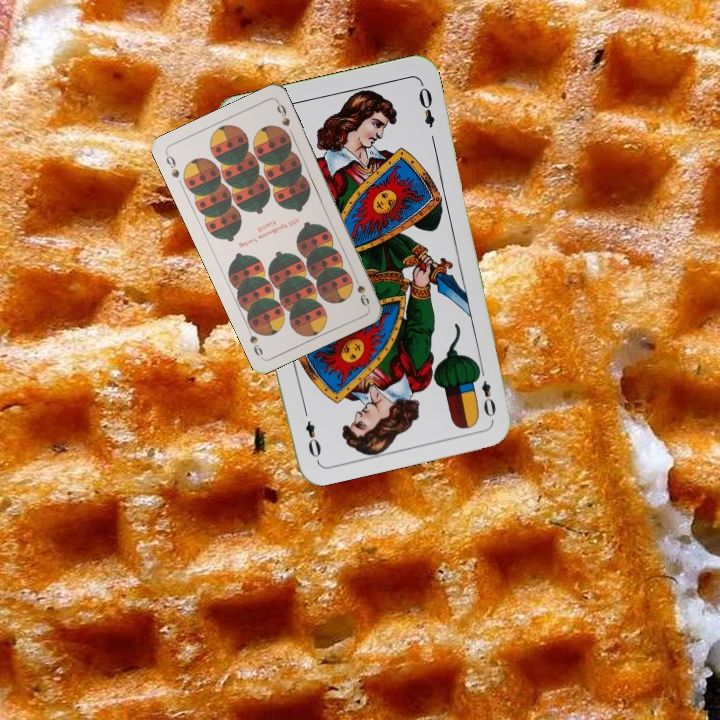EO: (472, 362, 499, 420)
S9: (349, 270, 372, 309), (162, 149, 182, 180)
